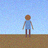person: (23, 15, 33, 37)
